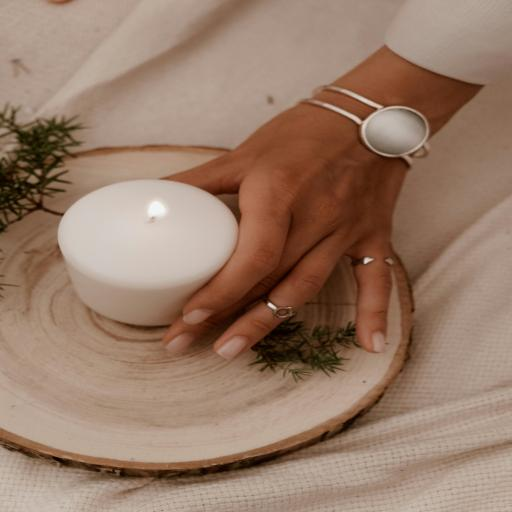candlelight: (49, 163, 241, 320)
